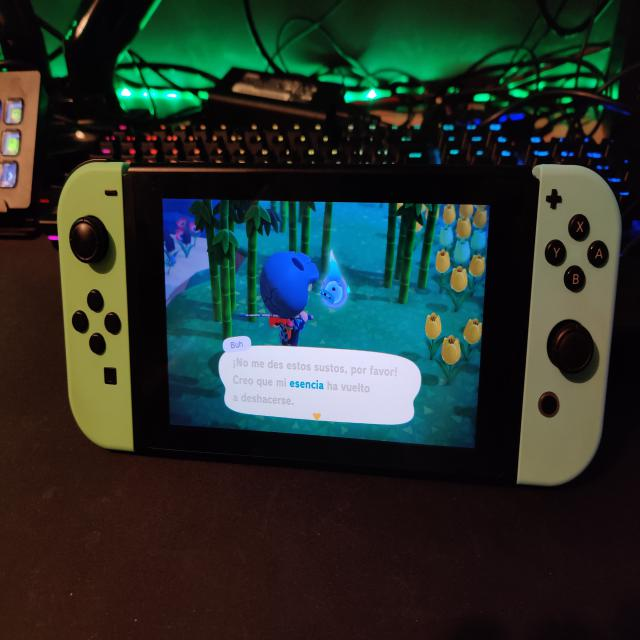text_bubble: (219, 333, 423, 430)
